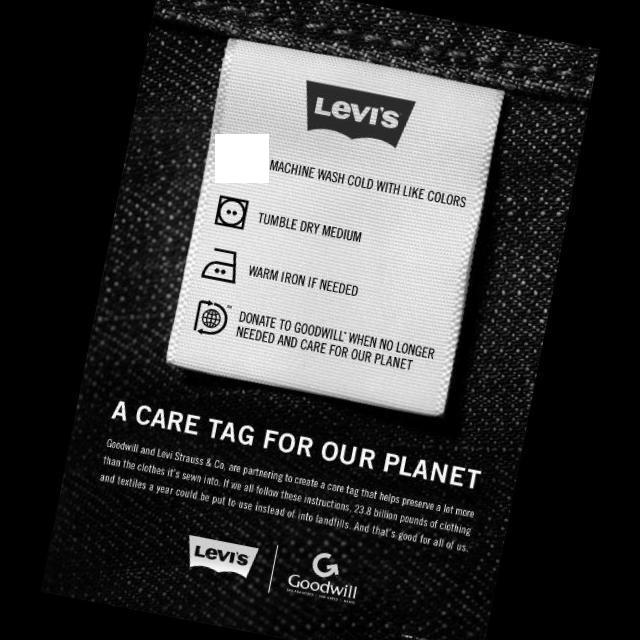iron_medium: (197, 242, 244, 288)
tumble_dry_medium: (209, 189, 251, 233)
